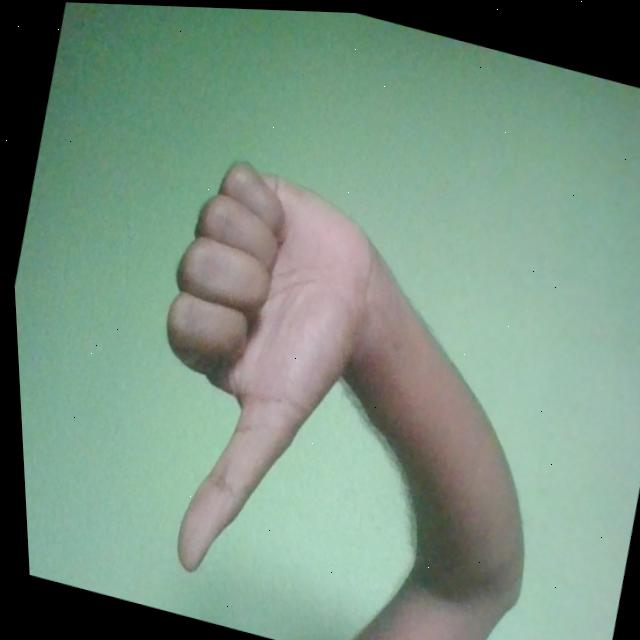Dislike: (103, 142, 410, 606)
